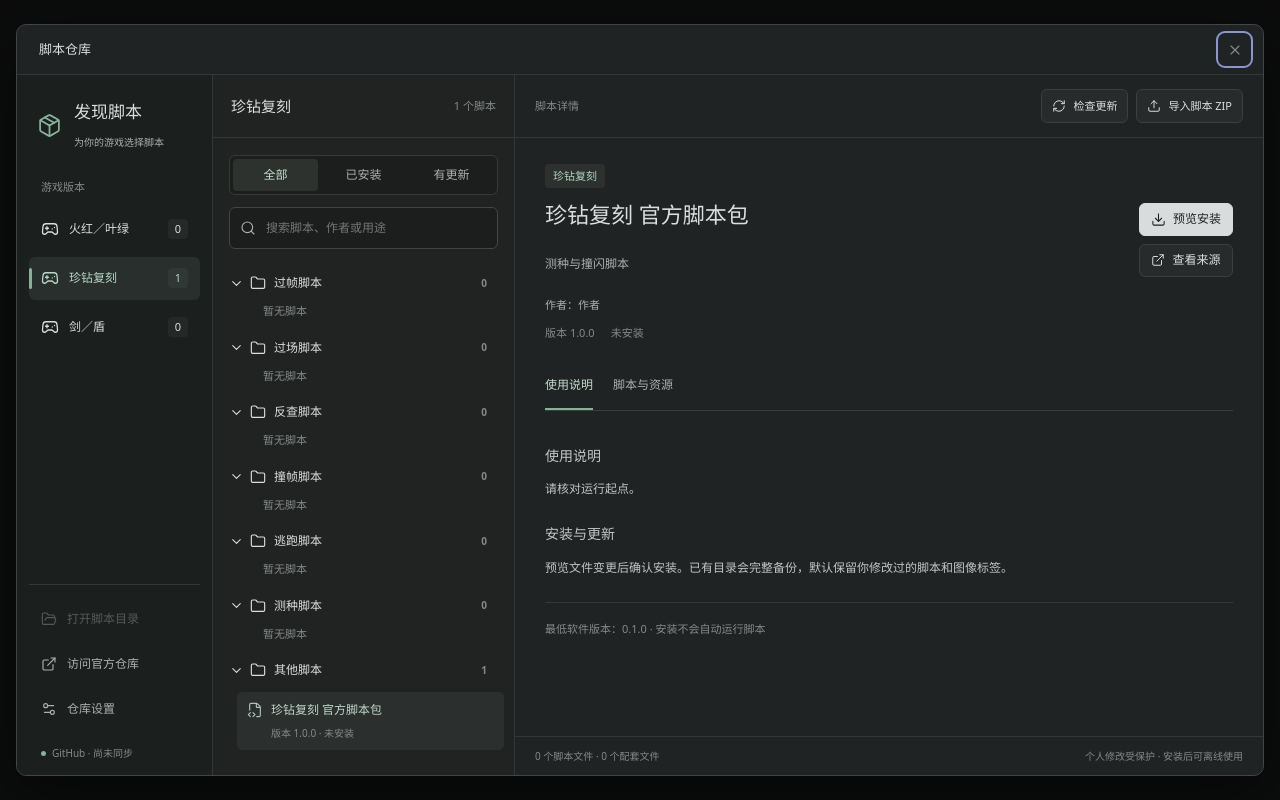
Test: directory migration requires a preview and refreshes the library after confirmation
Click the button "仓库设置": [114, 708] box [29,687,200,730]
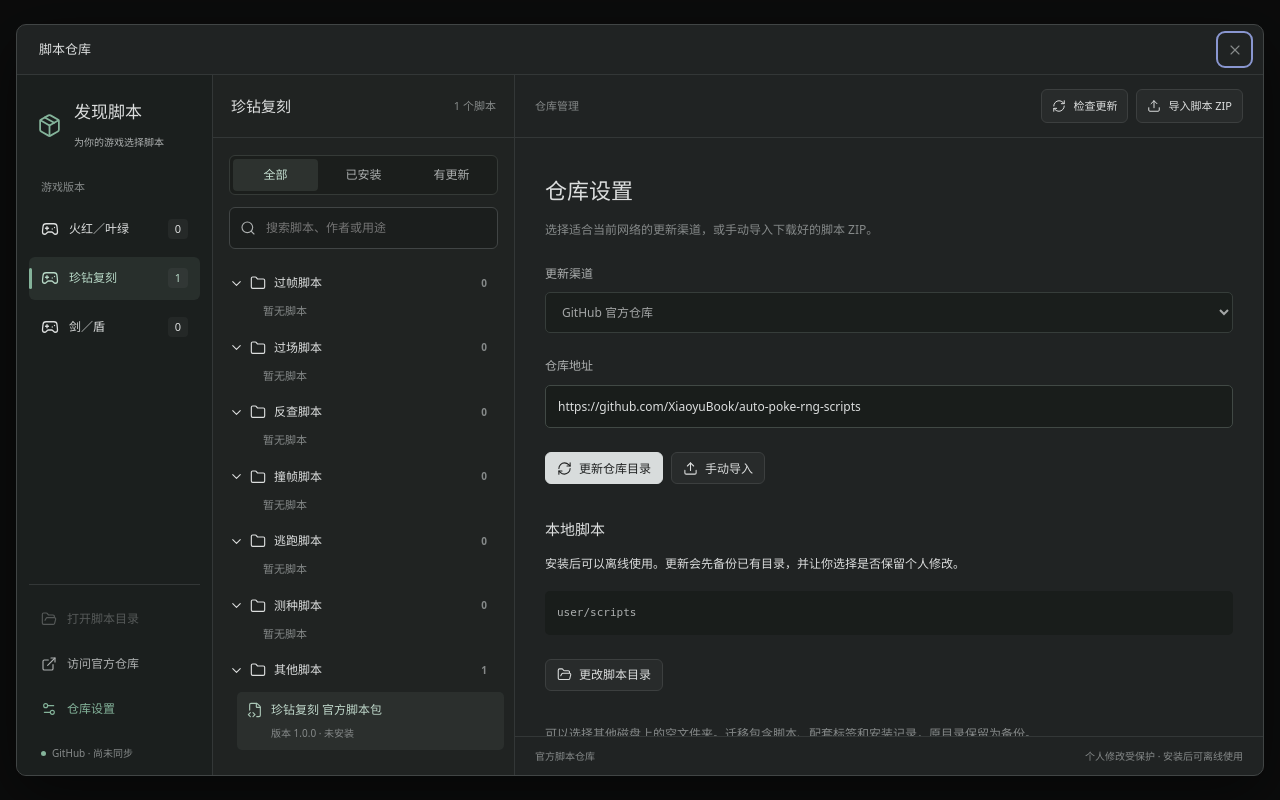
Expected: the button "更改脚本目录" is enabled
Click the button "更改脚本目录": [604, 675] box [545,659,663,691]
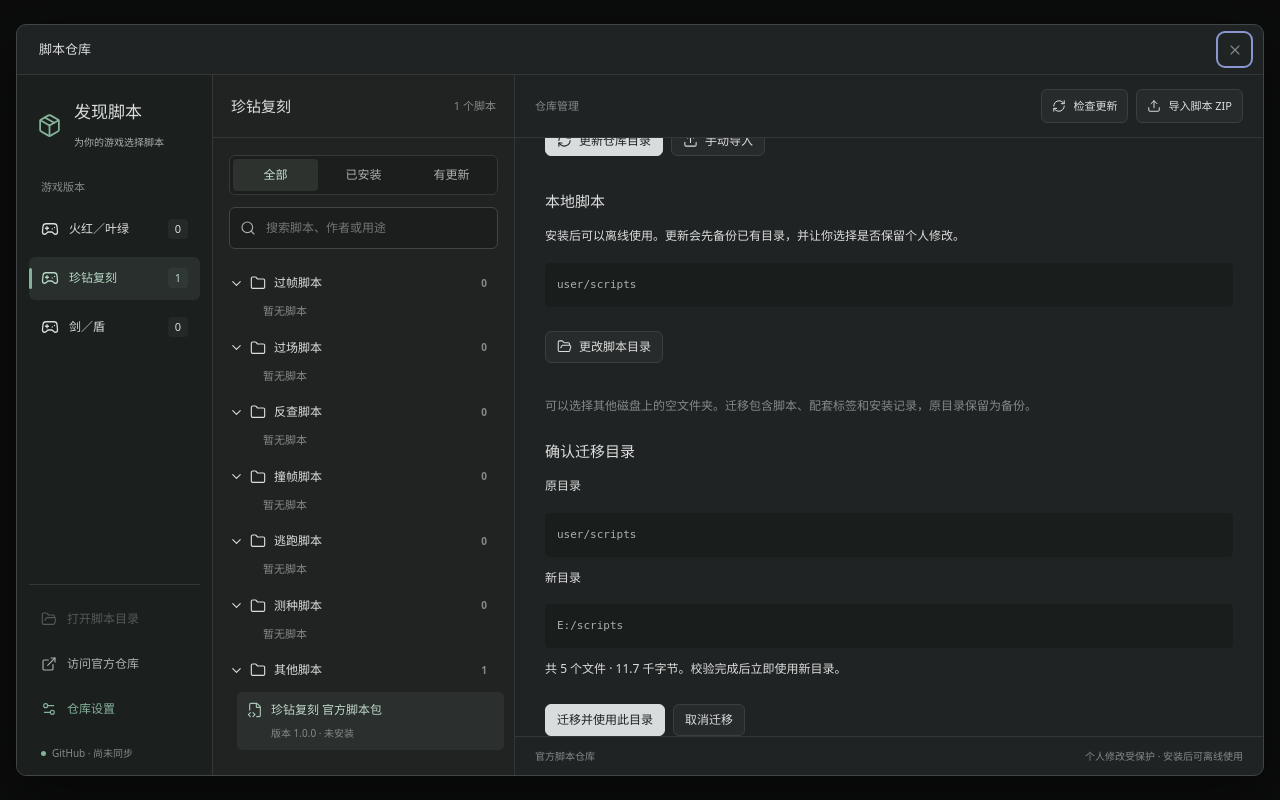
Expected: the element named "目录迁移预览" is shown, [545,438,1233,736]
Click the button "迁移并使用此目录": [605, 720] box [545,704,665,736]
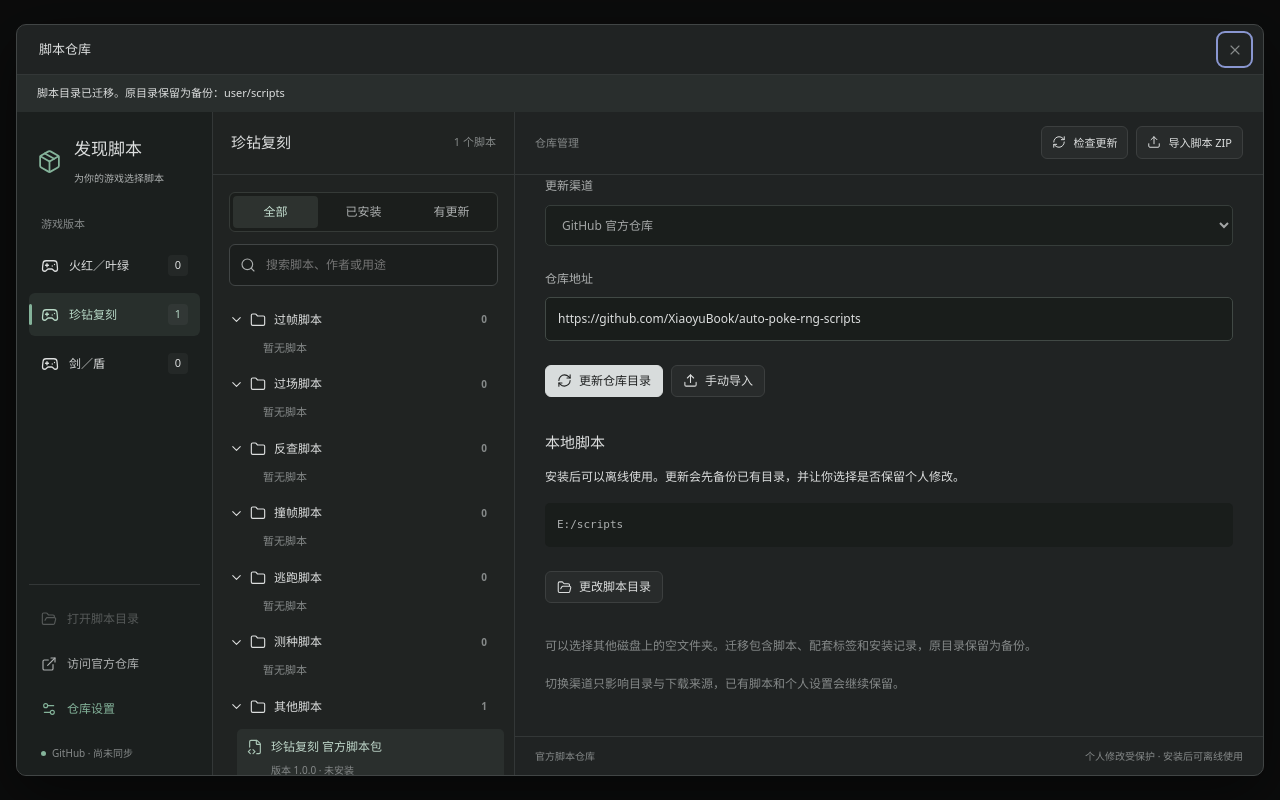
Expected: the message shows "原目录保留为备份", [37,85,285,100]
Expected: the text "E:/scripts" is shown, [545,504,1233,547]
